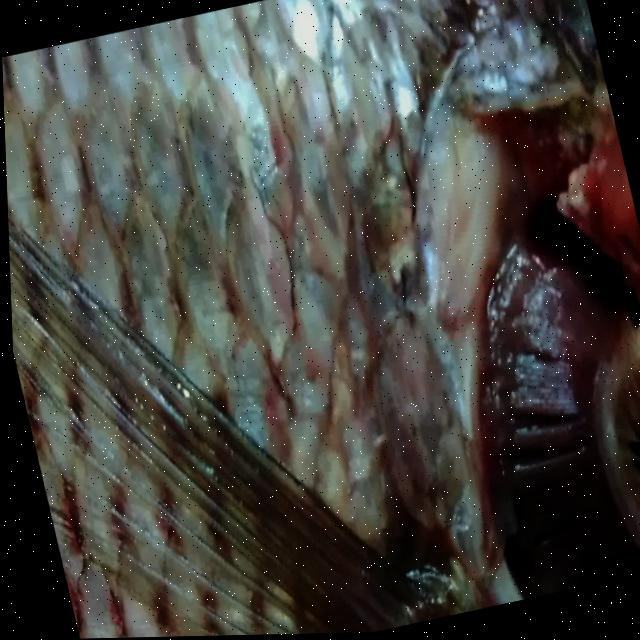Non-Fresh: (417, 212, 640, 608)
